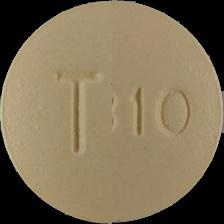0093-7810: (0, 0, 224, 224)
